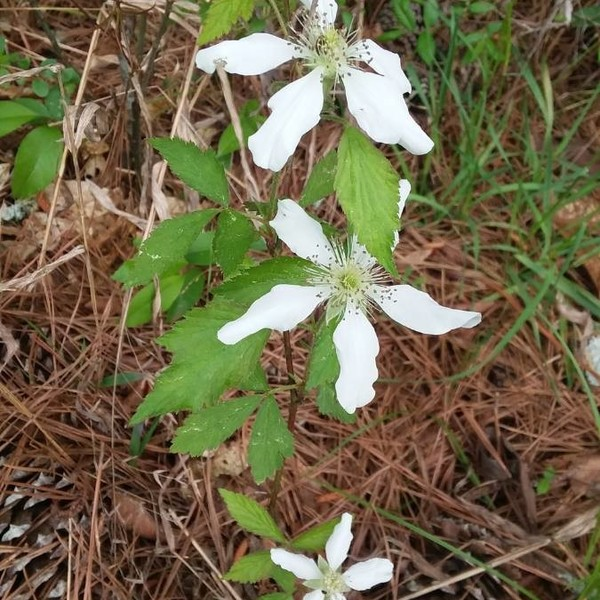obstacle: (132, 8, 493, 457)
